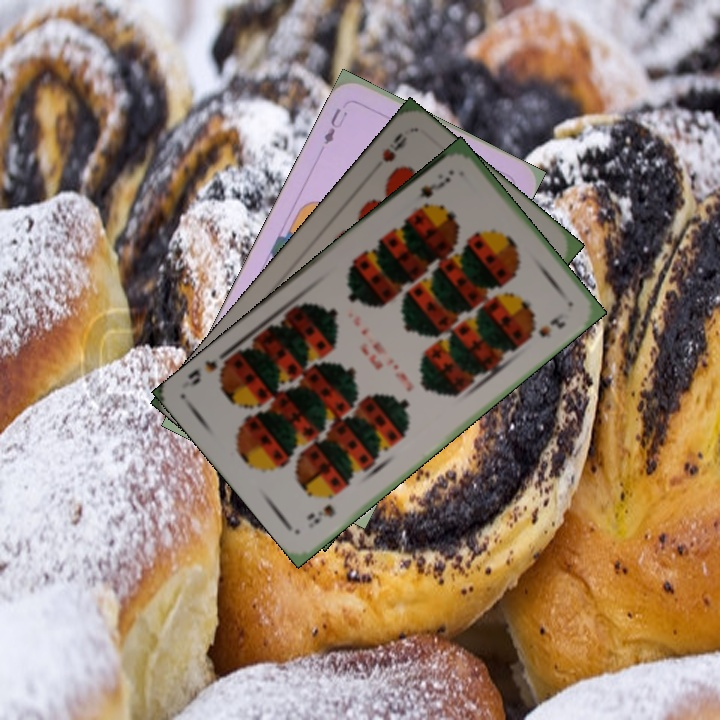EU: (319, 103, 350, 148)
H9: (378, 129, 410, 165)
S9: (415, 172, 453, 201), (303, 500, 339, 527)
